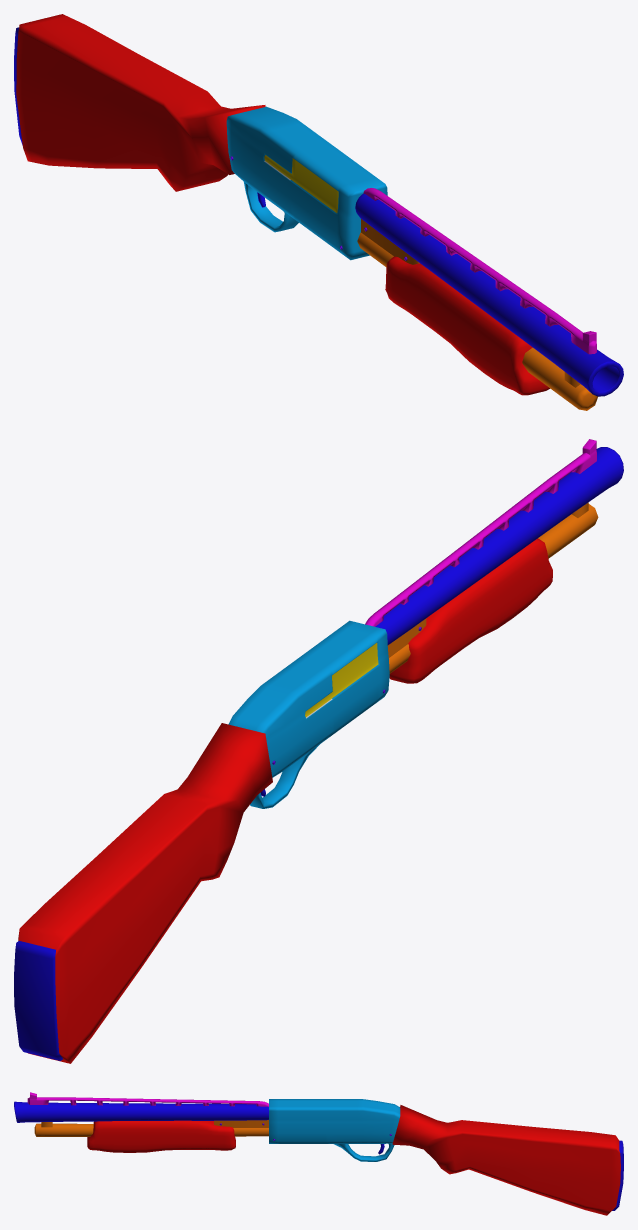
File: Shotgun.fbx
3 views of the same model, one above another, from view 1: azimuth 30°, elevation 25°; view 2: azimuth 150°, elevation 25°; view 3: azimuth 270°, elevation 25° (orthographic). The views are drawn at different scales.
Parts seen in each view (by area): view 1: Shotgun; view 2: Shotgun; view 3: Shotgun.
Part boxes in pixels (x1,y1,x2,y2): Shotgun: (14,14,623,410); Shotgun: (14,439,623,1063); Shotgun: (14,1092,623,1215).
Bounding box in the file's own units: 23.14 × 102 × 479.
